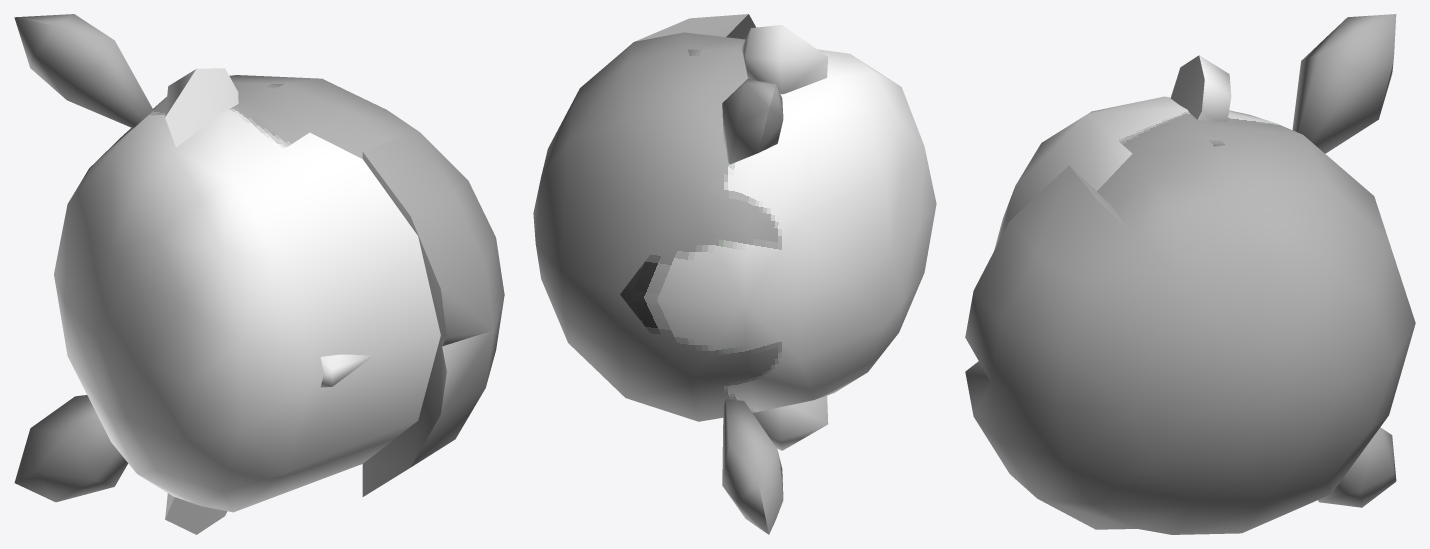
Rendered from girl14a.dae.
3 renders of one model, left to right at view 1: azimuth 30°, elevation 25°; view 2: azimuth 150°, elevation 25°; view 3: azimuth 270°, elevation 25°, orthographic. The views are drawn at different scales.
Visible parts, largest first — view 1: girl14a; view 2: girl14a; view 3: girl14a.
Part boxes in pixels (x1,y1,x2,y2): girl14a: (14, 14, 504, 534); girl14a: (533, 14, 936, 534); girl14a: (965, 14, 1415, 534).
Size of the model in its own units: 21.62 by 27.31 by 23.31.
Materials: 3 (1 with a texture image).
